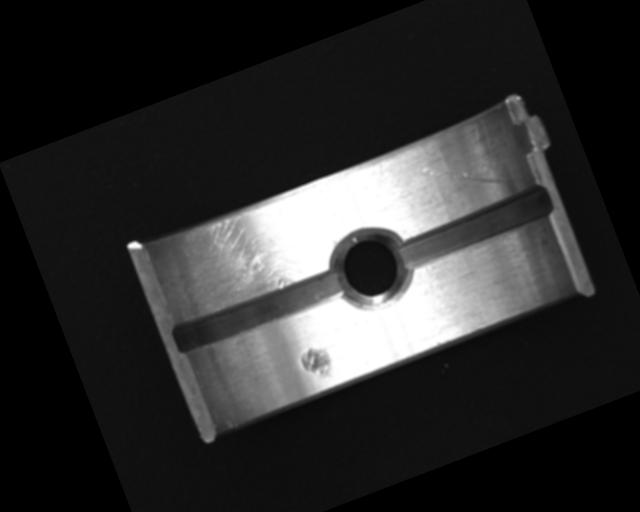bruise: (296, 341, 335, 384)
gap: (169, 260, 351, 358), (393, 183, 556, 272)
hole: (324, 219, 420, 318)
nick: (420, 139, 509, 212)
scratch: (150, 184, 336, 325)
